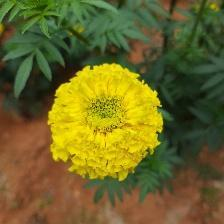marigold: (46, 62, 166, 185)
